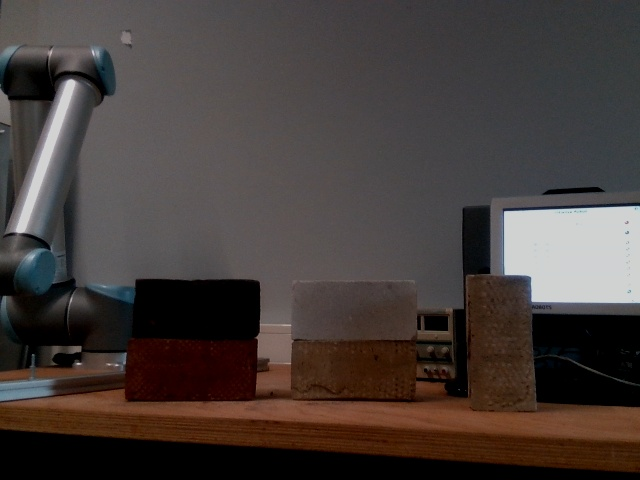brick: (472, 279, 532, 409), (129, 339, 253, 395), (293, 282, 417, 338), (135, 279, 258, 335), (293, 341, 416, 397)
